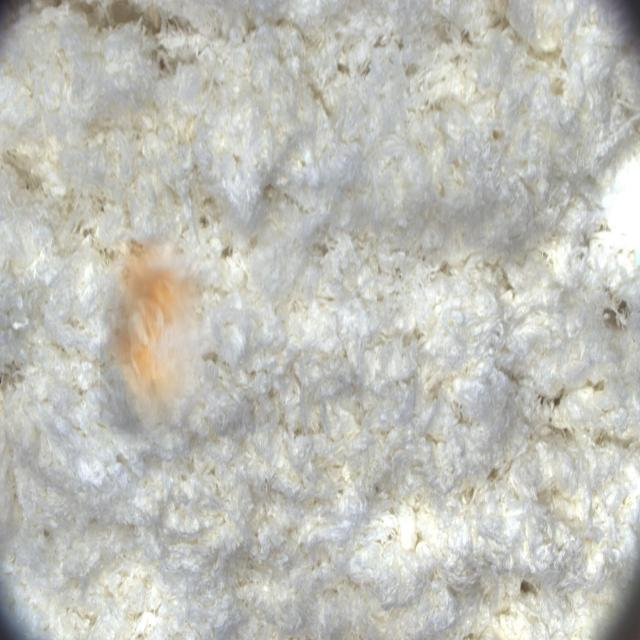dust: (100, 234, 212, 435)
